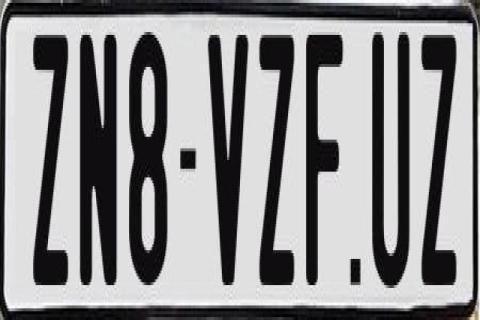0: (126, 32, 167, 302)
F: (304, 29, 342, 288)
N: (80, 35, 118, 285)
U: (370, 24, 408, 288)
V: (206, 32, 248, 294)
Z: (420, 35, 460, 303), (33, 32, 71, 291), (260, 35, 296, 303)
